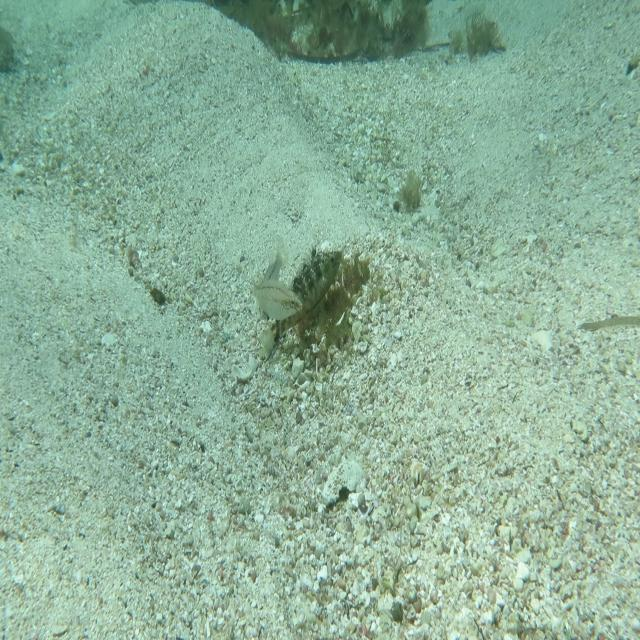ROLL: (256, 236, 343, 355)
female: (253, 241, 292, 323)
nest: (284, 242, 381, 362)
other_fish: (249, 272, 304, 322)
